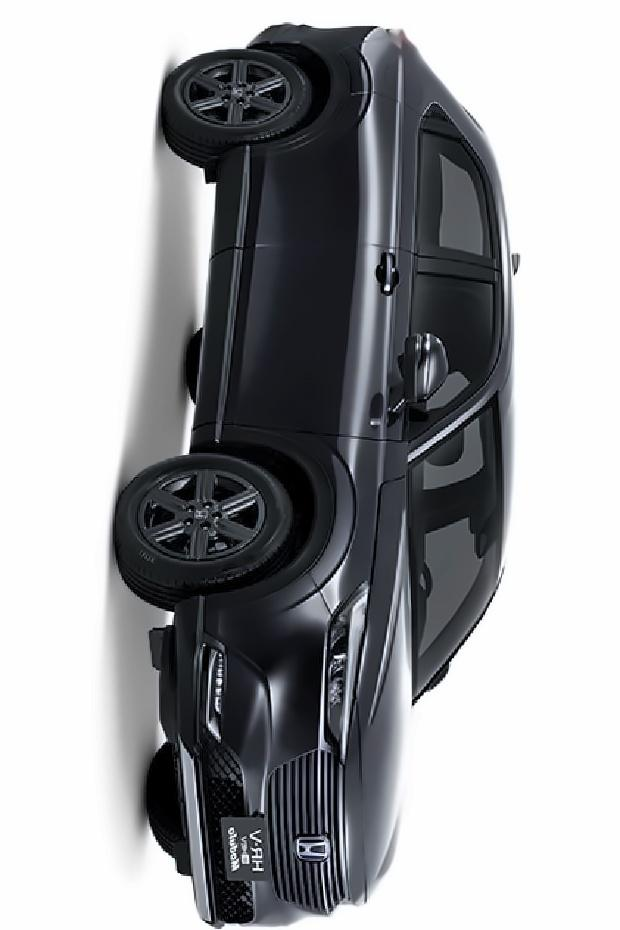Car hood: (339, 472, 411, 913)
Driver-s door - -F-R-: (215, 242, 505, 441)
Fender - -F-R-: (190, 419, 415, 615)
Fender - -R-R-: (309, 49, 443, 134)
Front bumper: (165, 575, 330, 930)
Headlight - -R-: (314, 575, 371, 776)
Passenger-s door - -R-R-: (242, 95, 509, 243)
Rear bumper: (234, 10, 339, 76)
Rear light - -R-: (382, 7, 420, 53)
Side bumper - -R-: (180, 135, 261, 458)
Side mirror - -R-: (390, 329, 456, 421)
